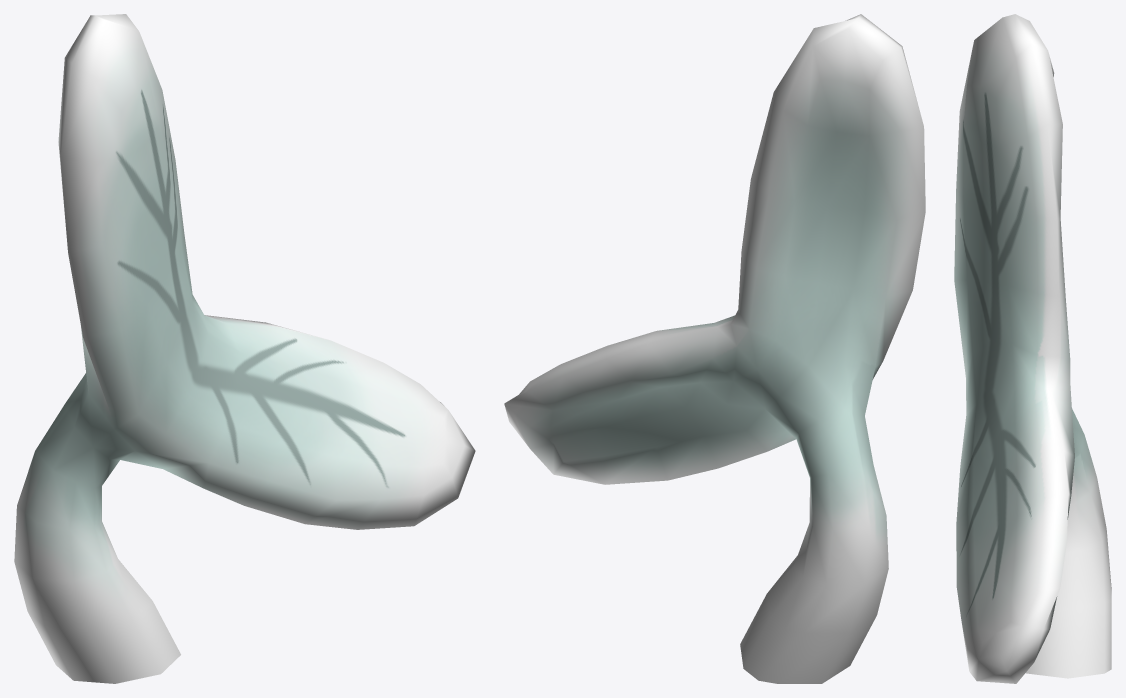
Rendered from leaf.fbx.
3 views of the same model, side by side, from view 1: azimuth 30°, elevation 25°; view 2: azimuth 150°, elevation 25°; view 3: azimuth 270°, elevation 25° (orthographic). The views are drawn at different scales.
Parts seen in each view (by area): view 1: RetopoFlow.002; view 2: RetopoFlow.002; view 3: RetopoFlow.002.
Boxes of the visible parts, box(x1,y1,x2,y2) form: RetopoFlow.002: box(14, 14, 475, 683); RetopoFlow.002: box(504, 14, 925, 683); RetopoFlow.002: box(954, 14, 1111, 683).
Bounding box in the file's own units: 103 × 157 × 35.47.
